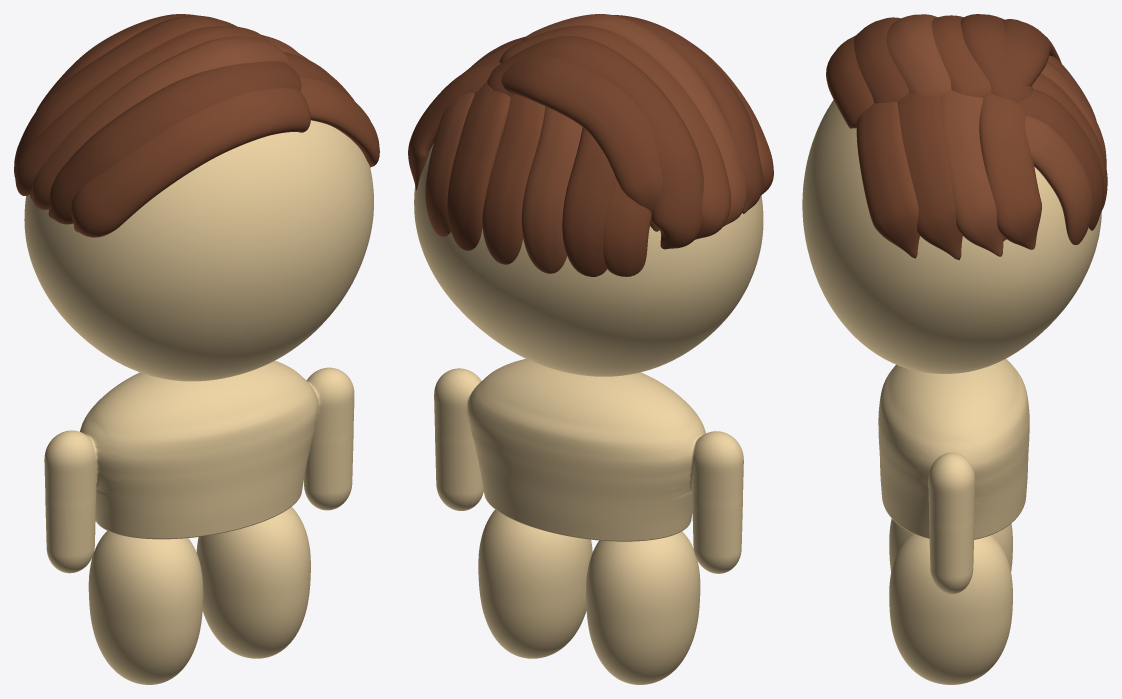
Rendered from Masculine-base.glb.
3 renders of one model, left to right at view 1: azimuth 30°, elevation 25°; view 2: azimuth 150°, elevation 25°; view 3: azimuth 270°, elevation 25°, orthographic.
Parts seen in each view (by area): view 1: Skin / soft oval head, Skin / rounded torso, Skin / leg blob -1, Skin / leg blob 1, Hair / Side part main 0, Hair / Side part main 1, Hair / Side part main 2, Hair / Side part main 3, Hair / Side part main 4, Hair / Side part short 0, Hair / Side part crown, Hair / Side part short 1; view 2: Skin / rounded torso, Skin / soft oval head, Skin / leg blob -1, Skin / leg blob 1, Hair / Side part crown, Hair / Side part main 4, Hair / Side part nape 2, Hair / Side part main 3, Hair / Side part nape 3, Hair / Side part nape 4, Hair / Side part main 2, Hair / Side part nape 1 (+5 smaller); view 3: Skin / soft oval head, Skin / rounded torso, Skin / leg blob 1, Hair / Side part short 3, Hair / Side part short 0, Hair / Side part short 1, Hair / Side part short 2, Hair / Side part nape 5, Hair / Side part main 2, Hair / Side part nape 4, Hair / Side part main 4, Hair / Side part main 1 (+6 smaller).
Boxes of the visible parts, x1,y1,x2,y2 form: Skin / soft oval head: [24, 120, 373, 381]; Skin / rounded torso: [44, 360, 354, 573]; Skin / leg blob -1: [88, 531, 203, 684]; Skin / leg blob 1: [196, 507, 310, 658]; Hair / Side part main 0: [71, 88, 310, 237]; Hair / Side part main 1: [48, 61, 301, 224]; Hair / Side part main 2: [31, 36, 288, 209]; Hair / Side part main 3: [15, 26, 269, 195]; Hair / Side part main 4: [14, 15, 236, 177]; Hair / Side part short 0: [298, 75, 379, 167]; Hair / Side part crown: [36, 14, 197, 110]; Hair / Side part short 1: [283, 51, 354, 100]; Skin / rounded torso: [434, 359, 743, 573]; Skin / soft oval head: [414, 143, 763, 376]; Skin / leg blob -1: [586, 531, 700, 684]; Skin / leg blob 1: [478, 509, 592, 658]; Hair / Side part crown: [501, 55, 662, 231]; Hair / Side part main 4: [487, 36, 703, 249]; Hair / Side part nape 2: [521, 106, 582, 273]; Hair / Side part main 3: [499, 25, 730, 239]; Hair / Side part nape 3: [482, 94, 545, 264]; Hair / Side part nape 4: [447, 82, 510, 250]; Hair / Side part main 2: [521, 14, 747, 226]; Hair / Side part nape 1: [562, 127, 615, 276]; Skin / soft oval head: [802, 100, 1101, 373]; Skin / rounded torso: [878, 359, 1029, 594]; Skin / leg blob 1: [889, 533, 1012, 684]; Hair / Side part short 3: [979, 93, 1041, 249]; Hair / Side part short 0: [856, 102, 919, 258]; Hair / Side part short 1: [897, 93, 962, 260]; Hair / Side part short 2: [940, 89, 1003, 256]; Hair / Side part nape 5: [1025, 116, 1092, 244]; Hair / Side part main 2: [886, 14, 951, 96]; Hair / Side part nape 4: [1016, 89, 1104, 230]; Hair / Side part main 4: [960, 14, 1032, 102]; Hair / Side part main 1: [854, 17, 909, 103].
Bounding box in the file's own units: 0.9754 × 1.87 × 0.825.
